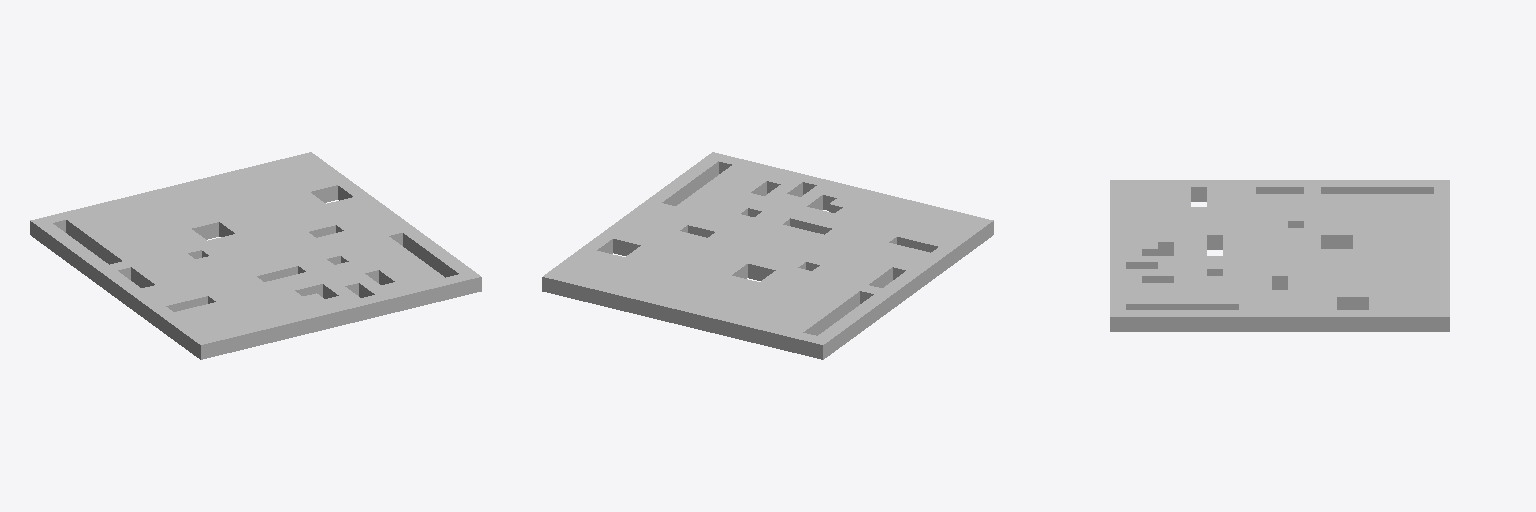
File: MarbleMazeGroundOnly.obj
The picture shows the model from 3 angles: view 1: azimuth 30°, elevation 25°; view 2: azimuth 150°, elevation 25°; view 3: azimuth 270°, elevation 25°; orthographic projection.
Visible parts, largest first — view 1: object 1; view 2: object 1; view 3: object 1.
Boxes of the visible parts, x1,y1,x2,y2 form: object 1: [30, 152, 481, 359]; object 1: [542, 152, 993, 359]; object 1: [1110, 180, 1449, 331].
Size of the model in its own units: 2 by 0.1 by 2.1.